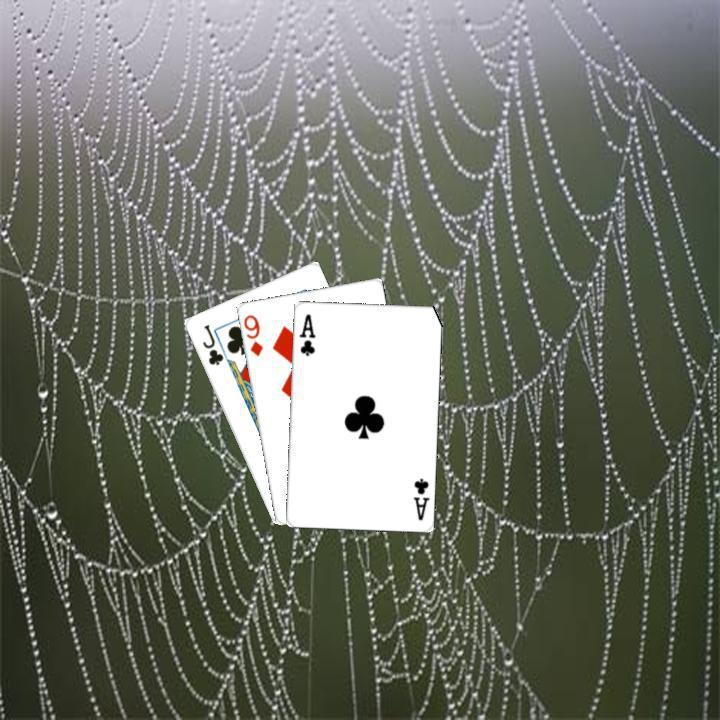9: (239, 310, 265, 358)
A: (294, 310, 317, 357), (409, 473, 431, 522)
J: (197, 320, 225, 367)
